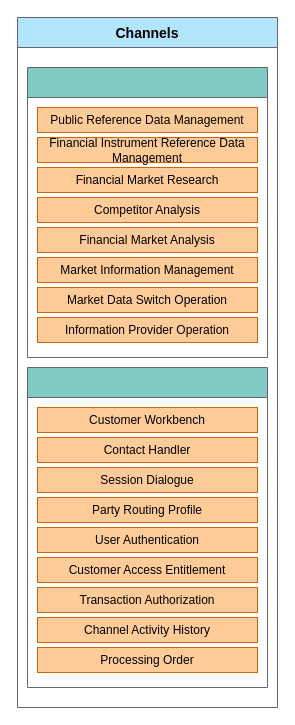
The diagram is 295 pixels wide and 725 high, and some of its shapes have lost their labels. Each missing label, with the box of its shape:
Cross Channel: (26, 366, 268, 688)
Information Providers: (26, 66, 268, 358)
